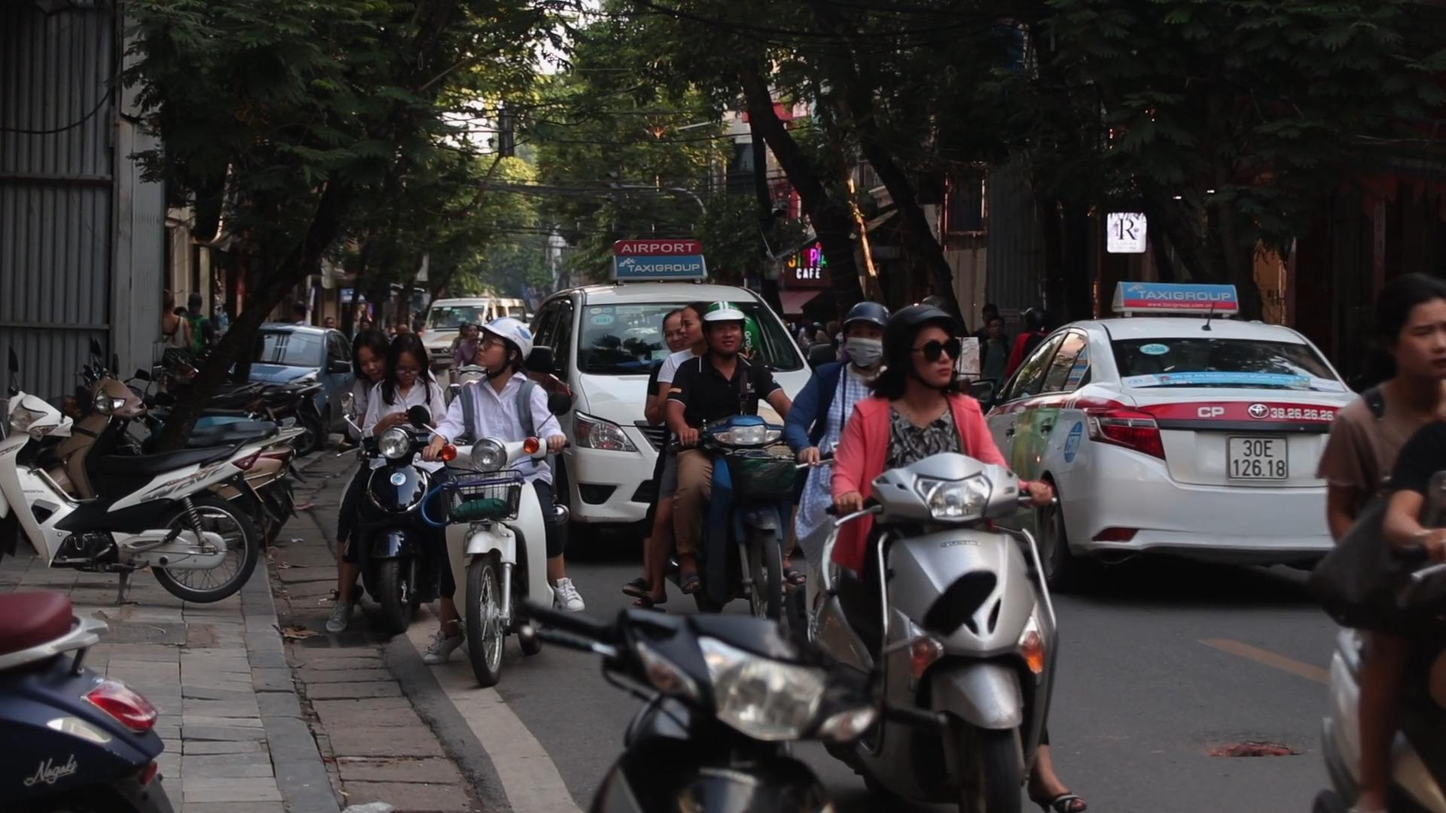driver: (806, 304, 1086, 813), (410, 316, 585, 687), (623, 301, 807, 621), (325, 329, 447, 633)
helmet: (882, 304, 960, 389), (476, 316, 533, 380), (843, 302, 892, 369), (701, 301, 746, 357)
no-helmet: (1374, 273, 1446, 379), (387, 333, 429, 385), (353, 329, 390, 382), (662, 308, 691, 352), (680, 302, 709, 345)
